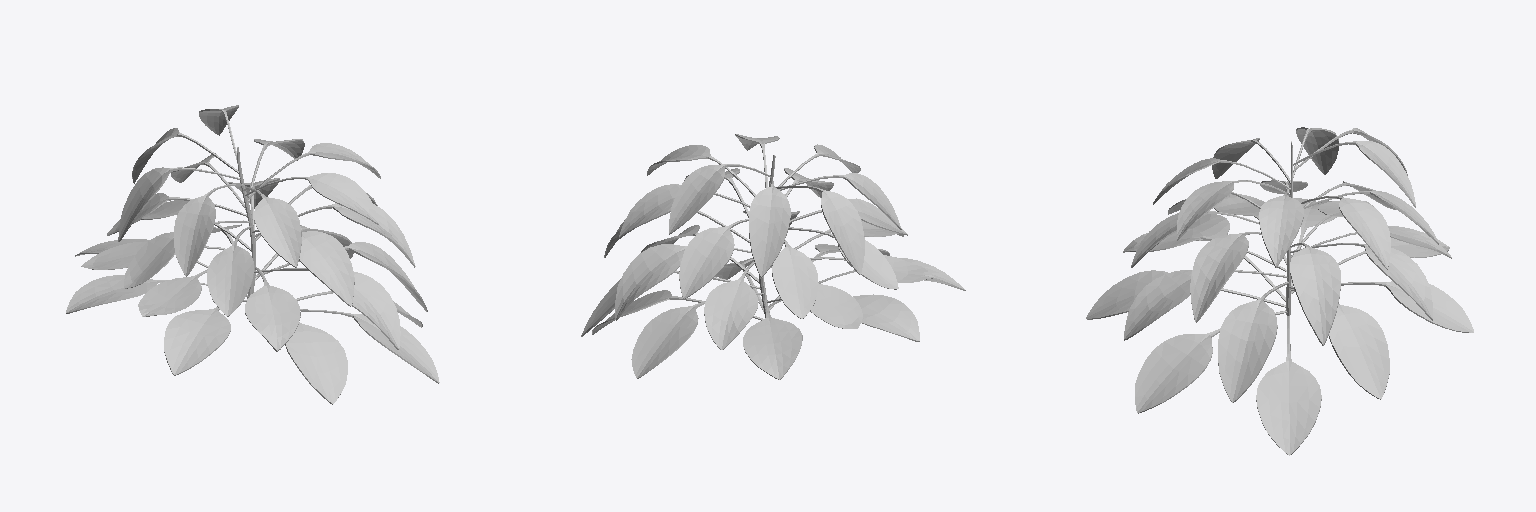
File: bush.obj
The picture shows the model from 3 angles: view 1: azimuth 30°, elevation 25°; view 2: azimuth 150°, elevation 25°; view 3: azimuth 270°, elevation 25°; orthographic projection.
Visible parts, largest first — view 1: leaf.001; view 2: leaf.001; view 3: leaf.001.
Boxes of the visible parts, x1=… form: leaf.001: x1=66, y1=105, x2=439, y2=404; leaf.001: x1=581, y1=134, x2=965, y2=379; leaf.001: x1=1086, y1=127, x2=1473, y2=455.
Bounding box in the file's own units: 1.2 × 0.7819 × 1.18.